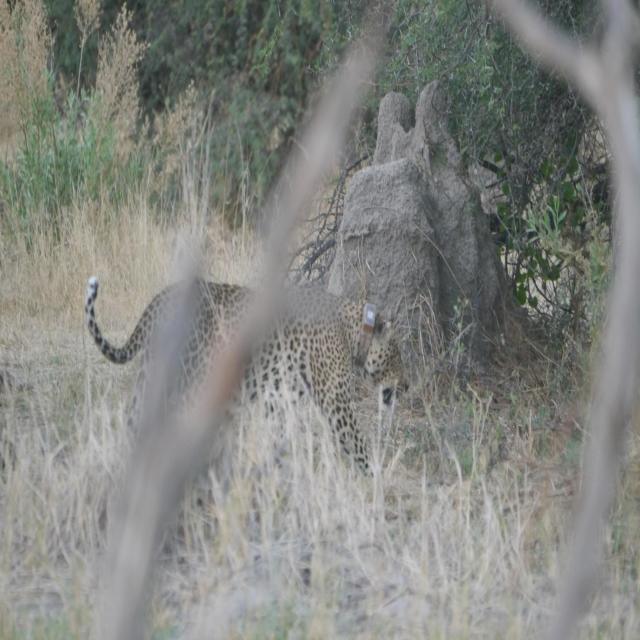Leopard: (65, 268, 418, 479)
